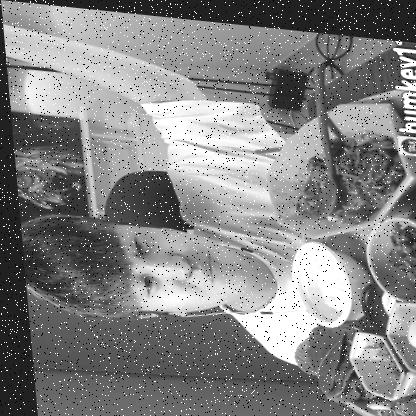streamer: (1, 20, 316, 364)
